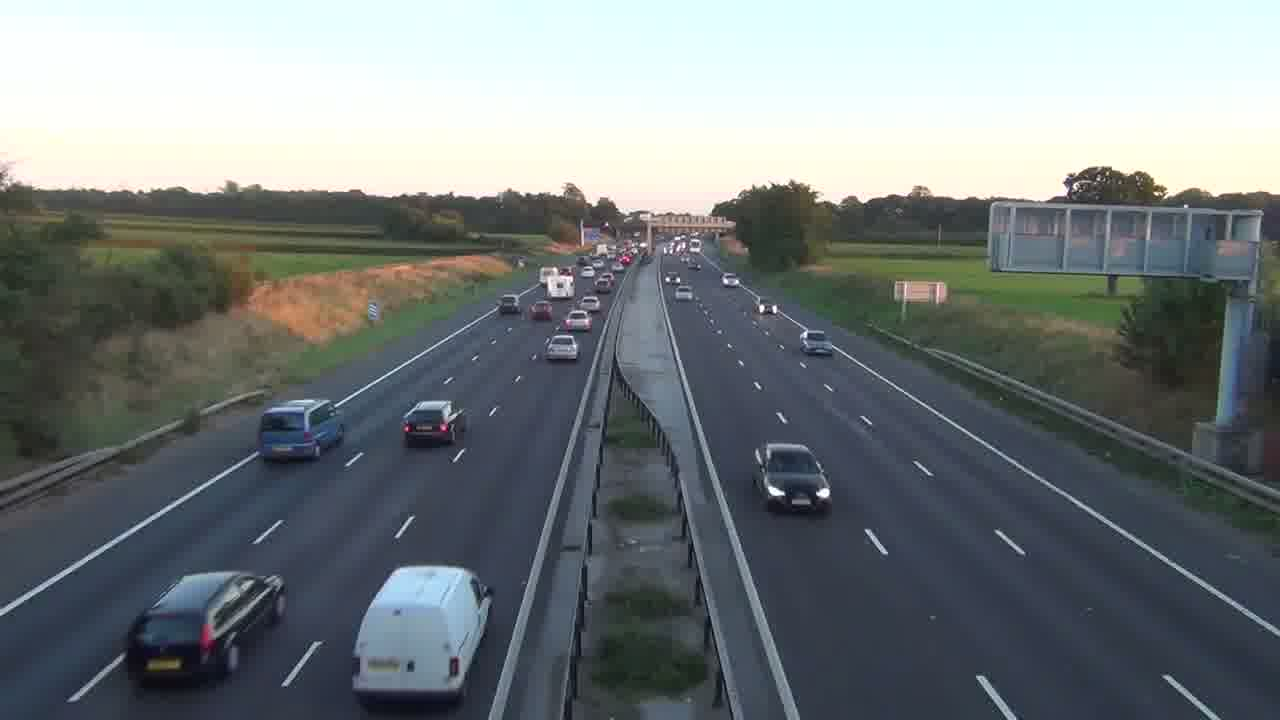car: (125, 569, 287, 686), (753, 441, 832, 515), (401, 399, 458, 446), (545, 333, 579, 362), (563, 309, 592, 332)
truck: (351, 564, 495, 705)
